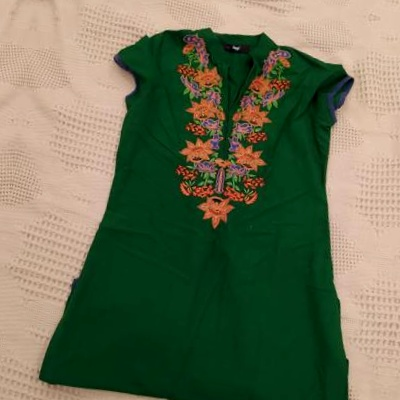Dress: (28, 0, 400, 400)
